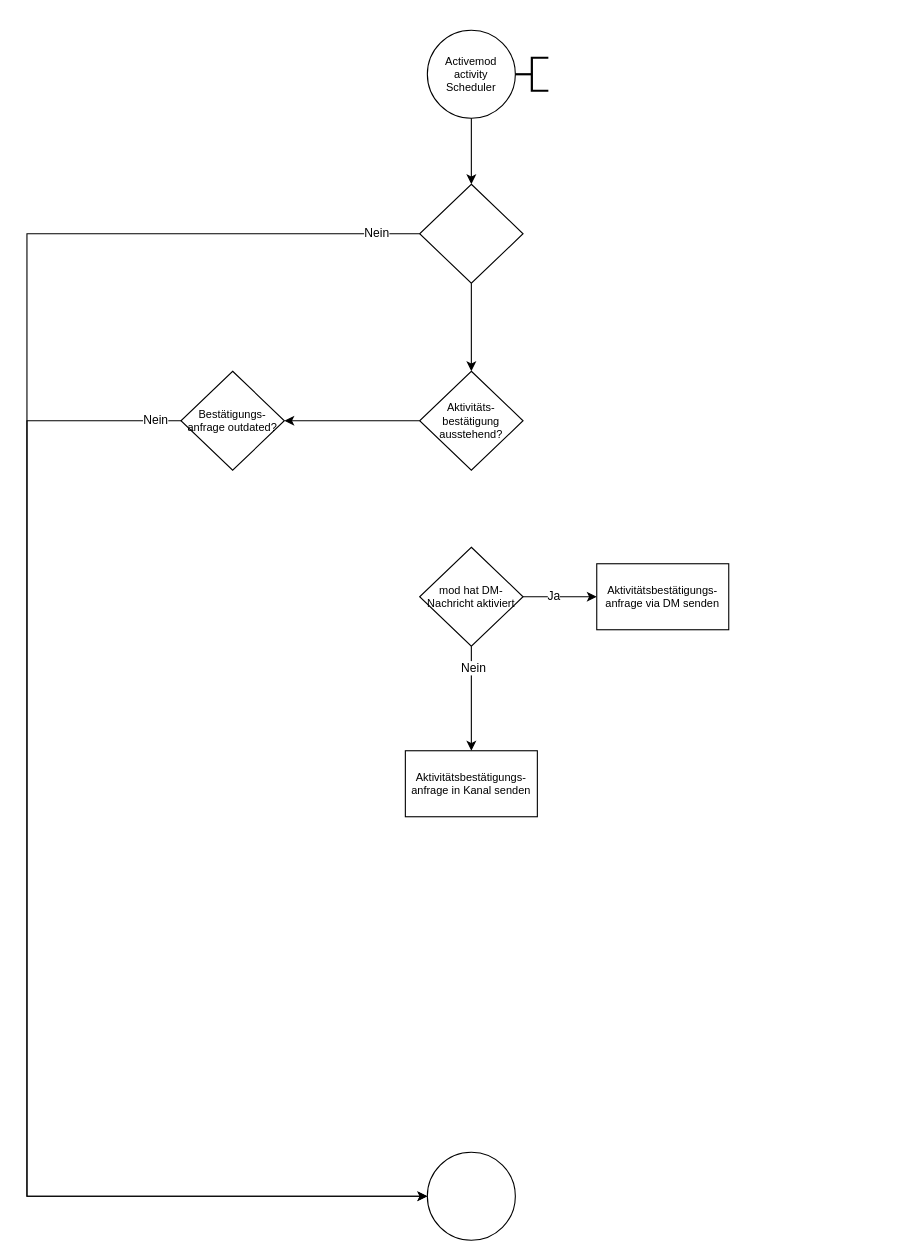
Image size: 909x1260. Some labels were removed from this diagram. The shapes that lost their labels are listed below. From the top down, each one's centre as x and y in pixels, then its label:
pixel 531 73: Der Scheduler wird jede Minute um Sekunde 0 ausgeführt
pixel 471 233: Activemod last activity ist min 30min her
pixel 470 1195: Ende
